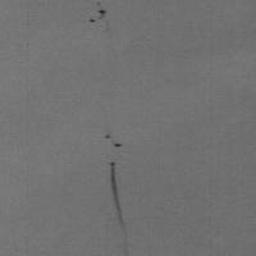Inclusion: (108, 161, 129, 234), (87, 0, 108, 24), (104, 133, 124, 148)
